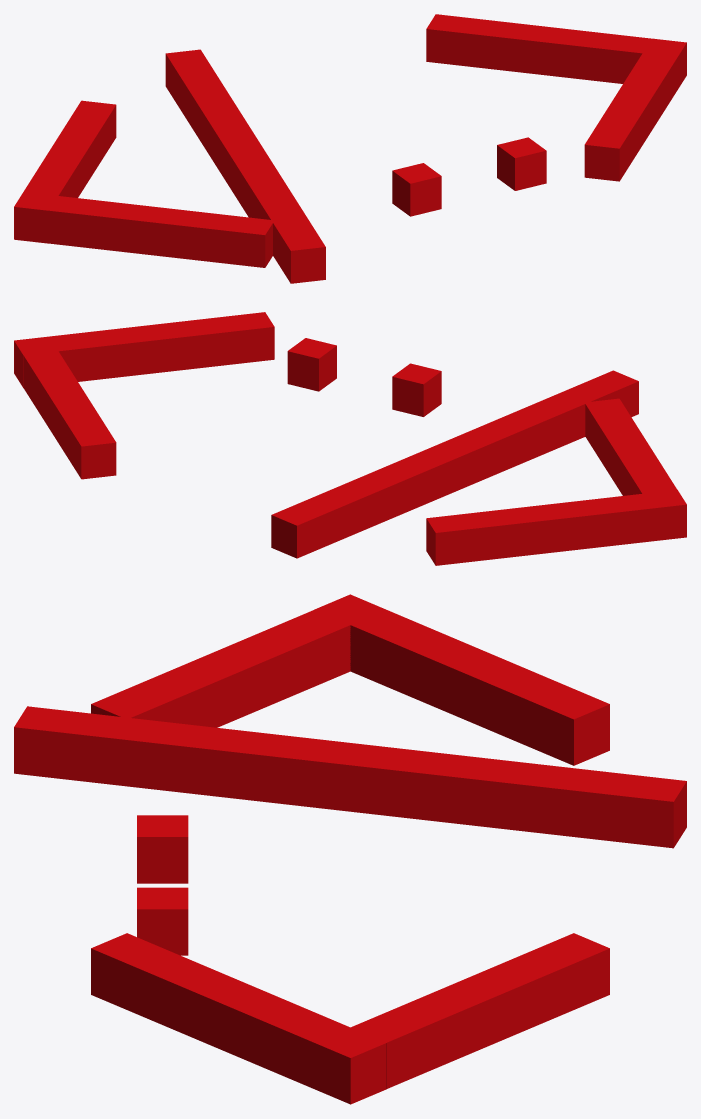
Rendered from frontend.a03245e1.glb.
3 views of the same model, one above another, from view 1: azimuth 30°, elevation 25°; view 2: azimuth 150°, elevation 25°; view 3: azimuth 270°, elevation 25° (orthographic). The views are drawn at different scales.
Visible parts, largest first — view 1: Cube.002; view 2: Cube.002; view 3: Cube.002.
Boxes of the visible parts, x1,y1,x2,y2 form: Cube.002: (14, 14, 686, 283); Cube.002: (14, 312, 686, 565); Cube.002: (14, 594, 686, 1104).
Bounding box in the file's own units: 6.43 × 0.3 × 3.94.
